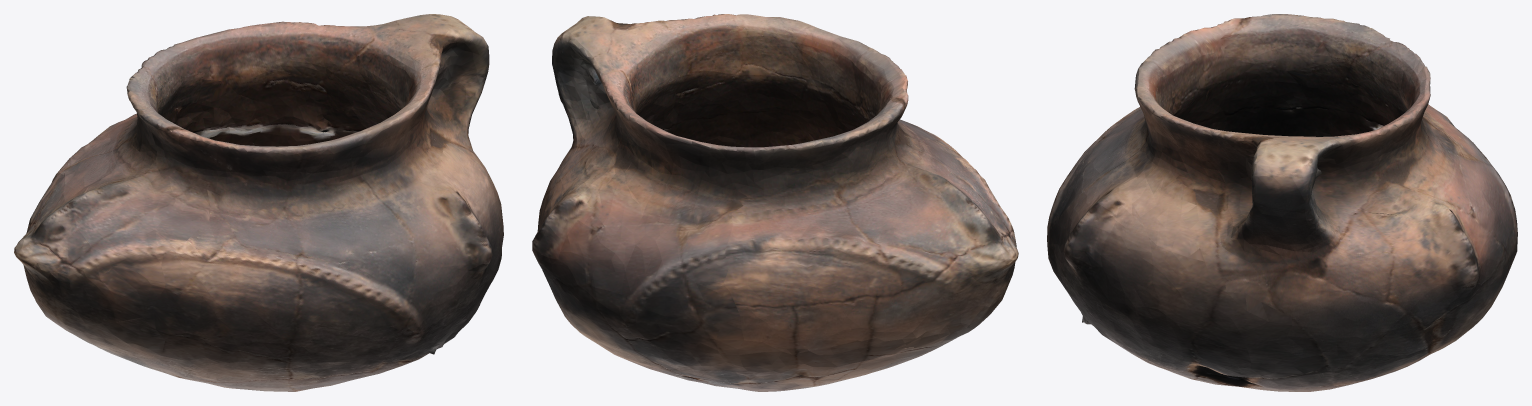
3 views of the same model, side by side, from view 1: azimuth 30°, elevation 25°; view 2: azimuth 150°, elevation 25°; view 3: azimuth 270°, elevation 25° (orthographic).
Parts seen in each view (by area): view 1: c_LOD00; view 2: c_LOD00; view 3: c_LOD00.
Boxes of the visible parts, x1,y1,x2,y2 form: c_LOD00: [14, 14, 503, 391]; c_LOD00: [532, 14, 1018, 391]; c_LOD00: [1047, 14, 1517, 391].
Size of what is drawn, in the model's own units: 20.83 by 12.67 by 18.29.
